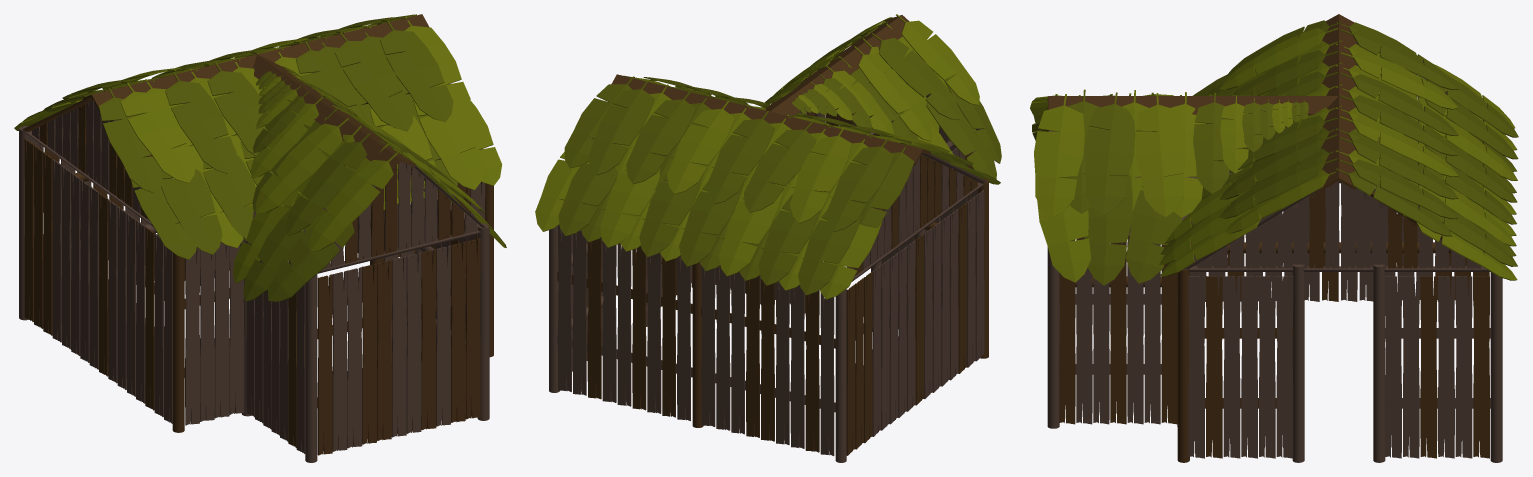
The model's file is House1.fbx.
3 views of the same model, side by side, from view 1: azimuth 30°, elevation 25°; view 2: azimuth 150°, elevation 25°; view 3: azimuth 270°, elevation 25° (orthographic). The views are drawn at different scales.
Parts seen in each view (by area): view 1: House; view 2: House; view 3: House.
Boxes of the visible parts, left/top/right/bottom form: House: left=14, top=14, right=506, bottom=462; House: left=535, top=14, right=1001, bottom=462; House: left=1030, top=14, right=1518, bottom=462.
Bounding box in the file's own units: 1534 × 1201 × 1808.
